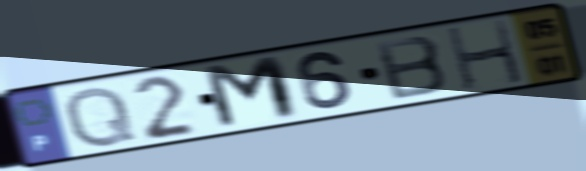2: (130, 73, 204, 144)
6: (295, 49, 356, 113)
B: (371, 33, 452, 103)
H: (443, 17, 528, 93)
M: (198, 52, 305, 133)
Q: (61, 84, 140, 151)
